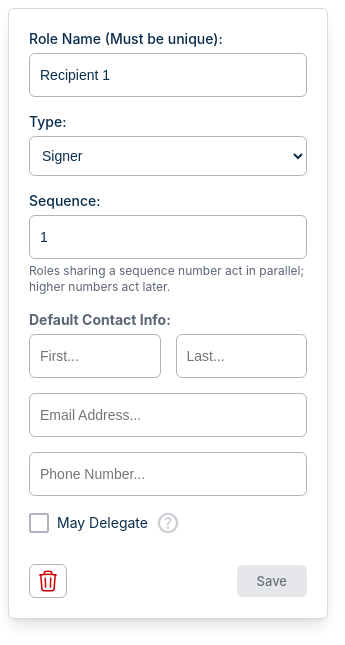
Test case: VerdocsTemplateRolePropertiesComponent › blocks saving while contact info is incomplete, and locks deletion while dirty
In the field with placeholder "First...": (95, 356) [29,334,160,378], type "Jane"
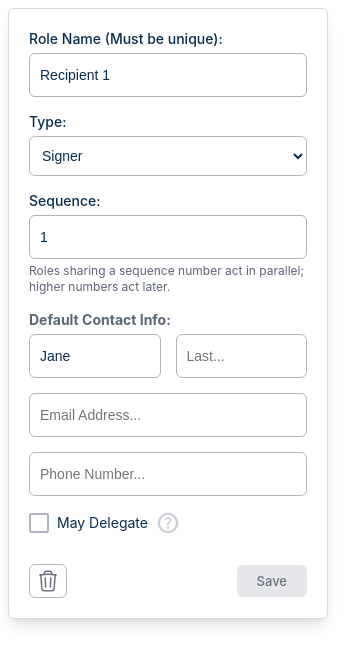
Expected: the button "Save" is disabled, [237,565,307,597]
Expected: the button named "Delete Role" is disabled, [29,564,67,598]
